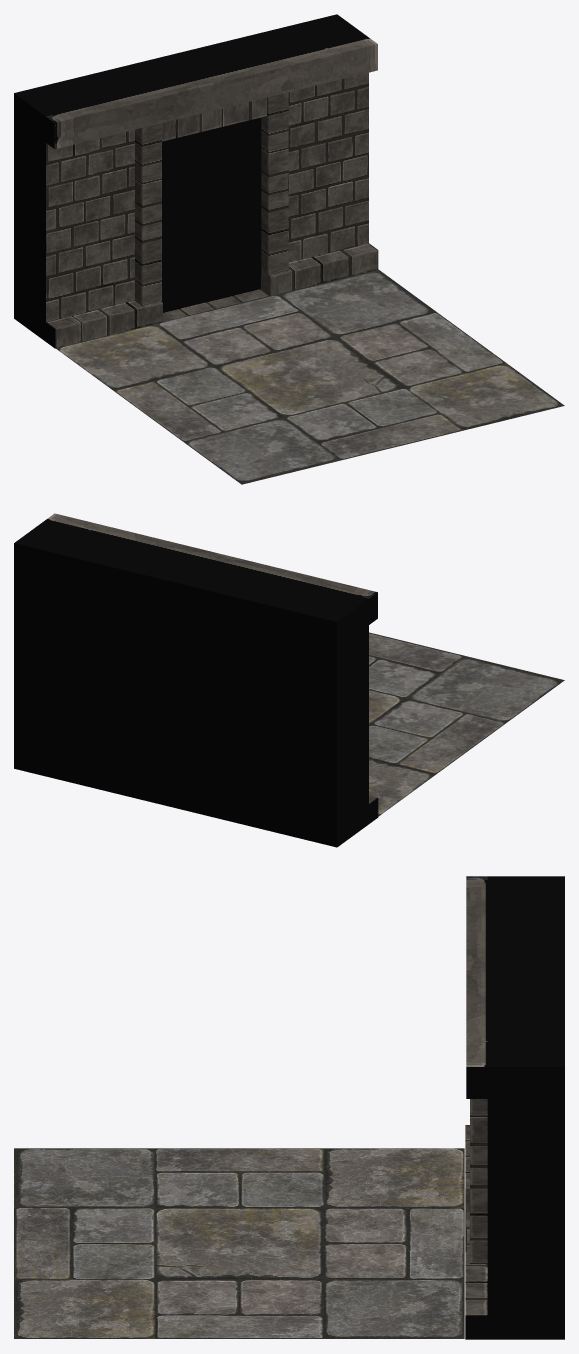
The model's file is ModularDoorway01.fbx.
The picture shows the model from 3 angles, top to bottom: view 1: azimuth 30°, elevation 25°; view 2: azimuth 150°, elevation 25°; view 3: azimuth 270°, elevation 25°; orthographic projection. The views are drawn at different scales.
Visible parts, largest first — view 1: Plane, Plane.001; view 2: Plane, Plane.001; view 3: Plane.001, Plane.
Part boxes in pixels (x1,y1,x2,y2): Plane: (14,14,378,348); Plane.001: (56,269,564,484); Plane: (14,513,378,847); Plane.001: (369,632,564,816); Plane.001: (14,1148,464,1338); Plane: (465,876,564,1339).
Bounding box in the file's own units: 3 × 2 × 3.66.
Materials: 2 (2 with a texture image).
